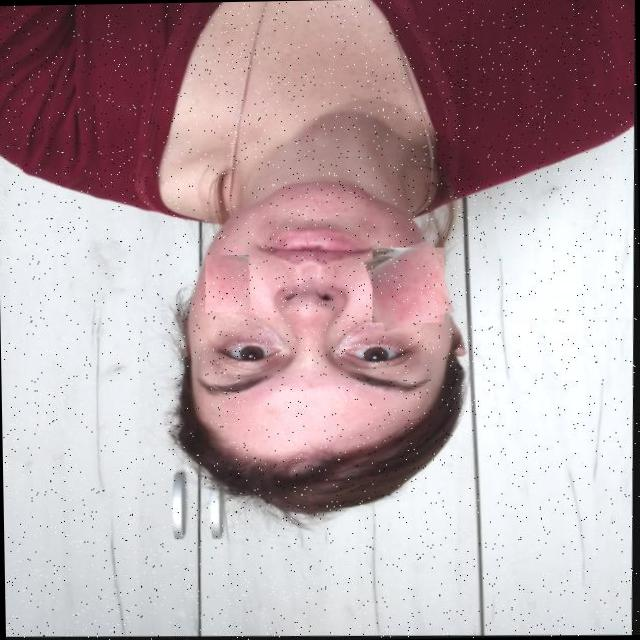redness: (369, 241, 442, 321), (206, 256, 250, 312)
